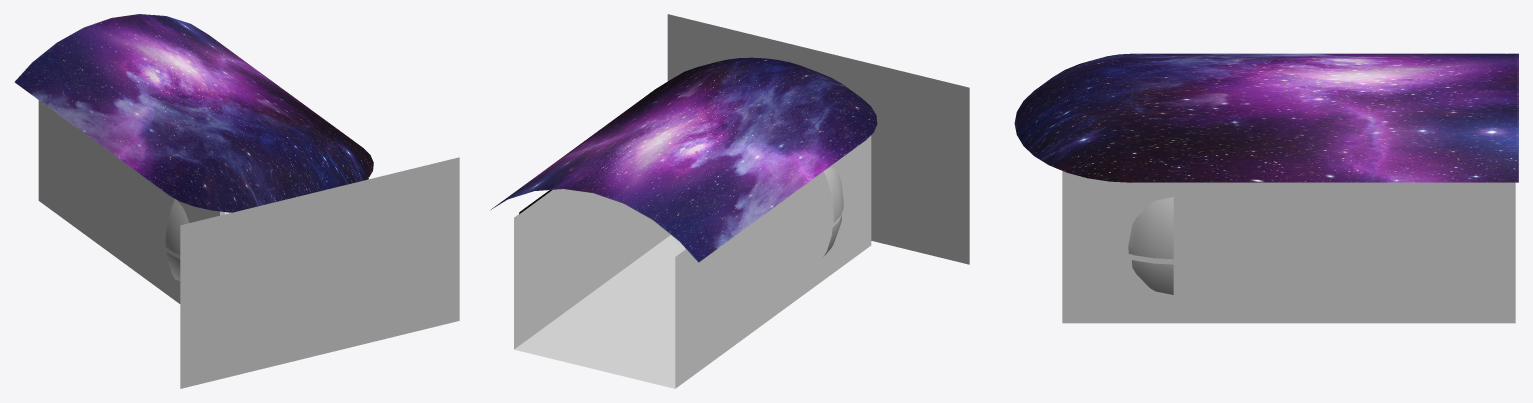
The model's file is CONTROLODEF.fbx.
3 views of the same model, side by side, from view 1: azimuth 30°, elevation 25°; view 2: azimuth 150°, elevation 25°; view 3: azimuth 270°, elevation 25° (orthographic). The views are drawn at different scales.
Visible parts, largest first — view 1: Sci-Fi Space Station.003, Sci-Fi Space Station.002, Cube, Sci-Fi Space Station.001, Cube.001; view 2: Cube, Sci-Fi Space Station.002, Sci-Fi Space Station.003, Cube.001, Sci-Fi Space Station.001; view 3: Sci-Fi Space Station.002, Cube, Sci-Fi Space Station.001, Cube.001.
Boxes of the visible parts, <box> form: Sci-Fi Space Station.003: <box>180,157,459,388</box>; Sci-Fi Space Station.002: <box>14,14,373,212</box>; Cube: <box>38,100,368,303</box>; Sci-Fi Space Station.001: <box>165,199,224,280</box>; Cube.001: <box>38,145,165,242</box>; Cube: <box>514,135,871,388</box>; Sci-Fi Space Station.002: <box>491,57,877,262</box>; Sci-Fi Space Station.003: <box>667,14,969,264</box>; Cube.001: <box>514,186,871,333</box>; Sci-Fi Space Station.001: <box>672,167,843,256</box>; Sci-Fi Space Station.002: <box>1014,53,1518,182</box>; Cube: <box>1062,171,1515,323</box>; Sci-Fi Space Station.001: <box>1128,197,1173,294</box>; Cube.001: <box>1062,254,1515,259</box>.
Bounding box in the file's own units: 11250 × 7106 × 14538.
